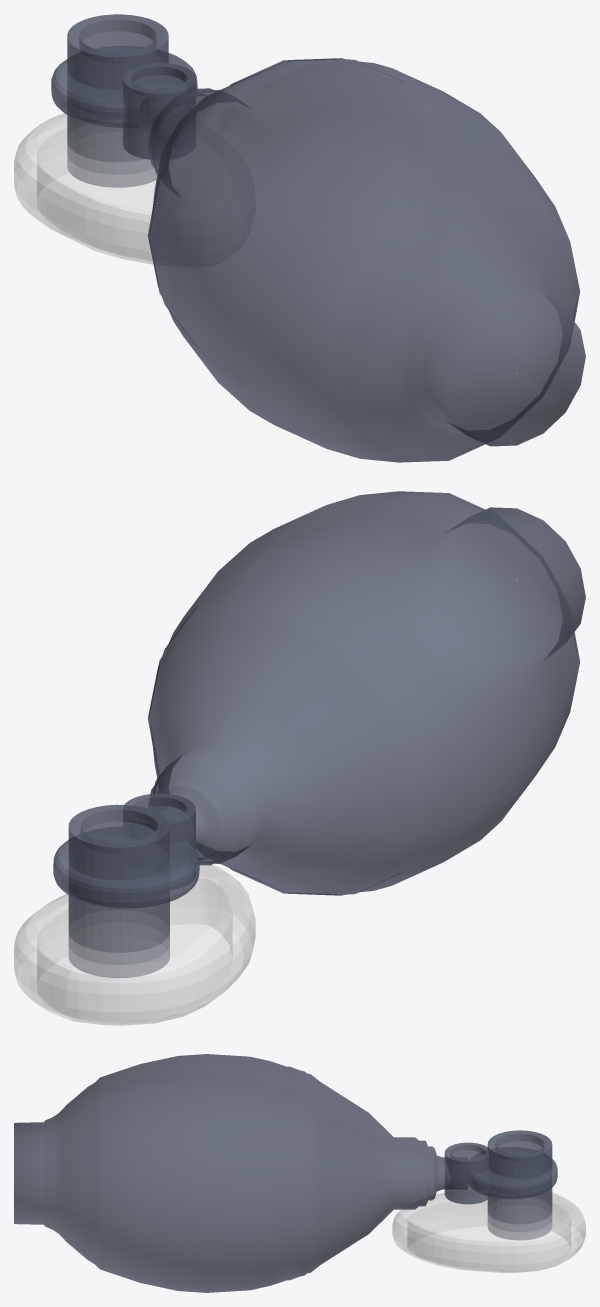
The picture shows the model from 3 angles, top to bottom: view 1: azimuth 30°, elevation 25°; view 2: azimuth 150°, elevation 25°; view 3: azimuth 270°, elevation 25°; orthographic projection. The views are drawn at different scales.
Visible parts, largest first — view 1: EM-22b; view 2: EM-22b; view 3: EM-22b.
Part boxes in pixels (left/top/right/bottom): EM-22b: left=14, top=14, right=585, bottom=462; EM-22b: left=14, top=491, right=585, bottom=1025; EM-22b: left=14, top=1054, right=585, bottom=1292.
Size of the model in its own units: 11.29 by 11.29 by 26.99.
